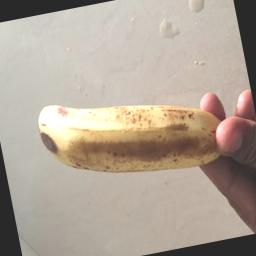Banana Ripe: (11, 50, 246, 204)
